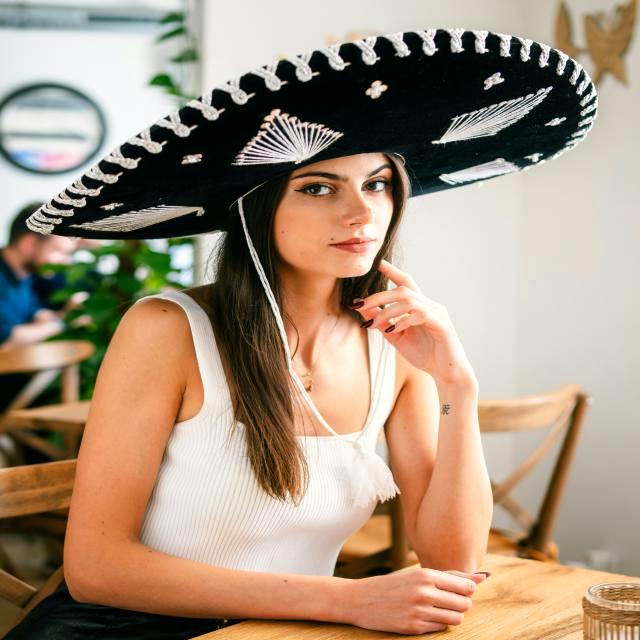no_hard_hat: (28, 28, 597, 239)
person: (65, 31, 550, 640)
